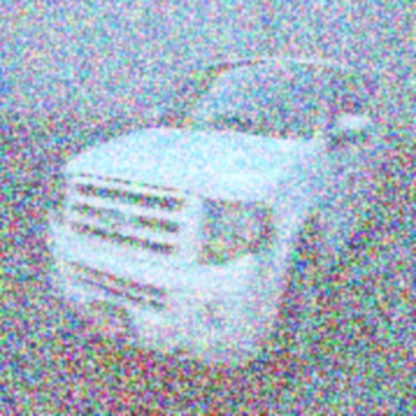Vehicle: (45, 52, 390, 390)
